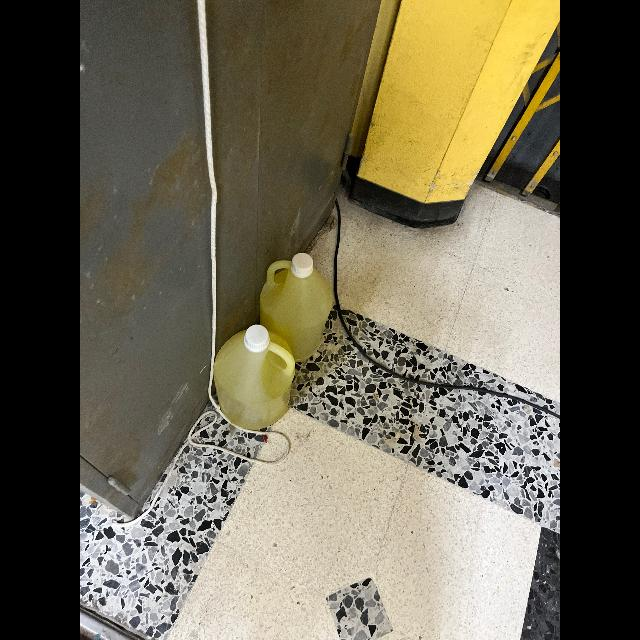chemical_plastic_gallon: (202, 316, 306, 446), (258, 226, 338, 368)
